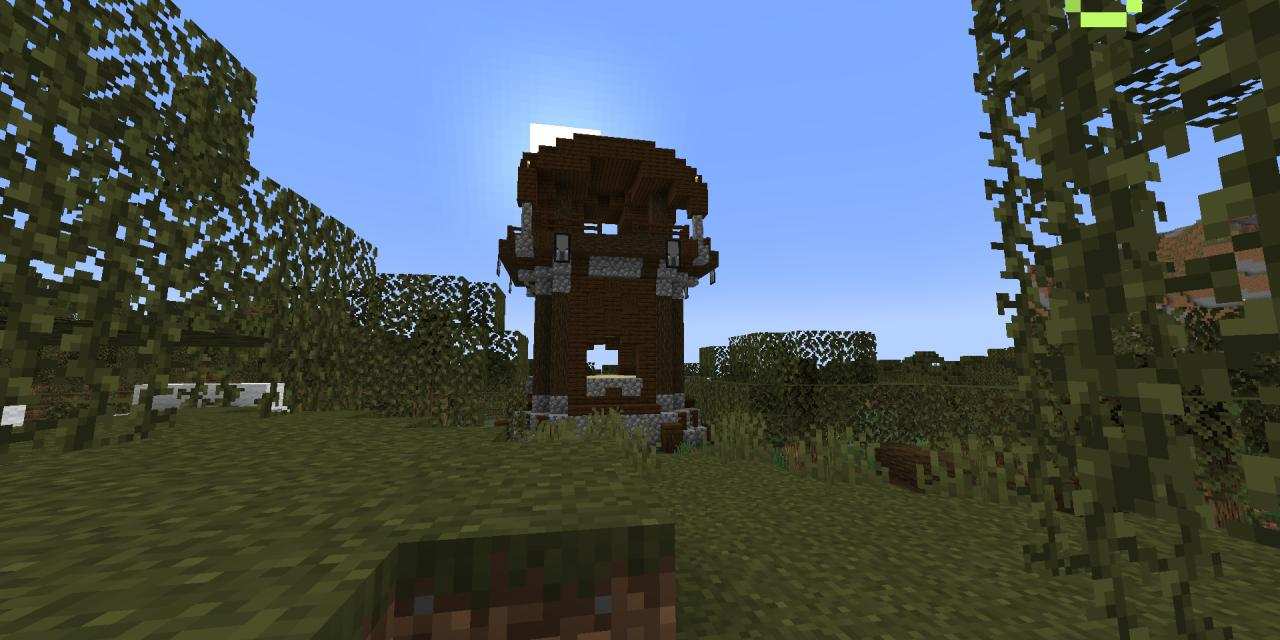pillager outpost: (487, 118, 730, 458)
